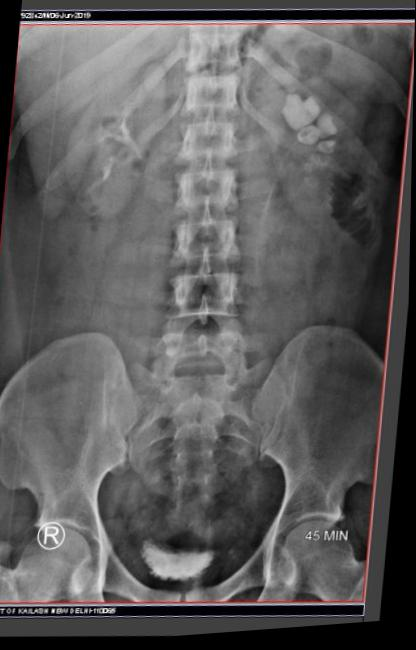bladder: (141, 545, 245, 615)
right kidney: (62, 57, 171, 218)
vertebrae: (187, 103, 255, 160)
